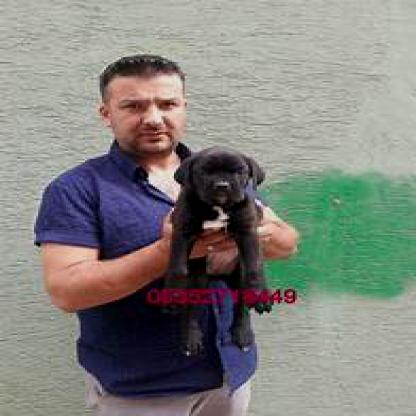dog: (169, 148, 272, 357)
